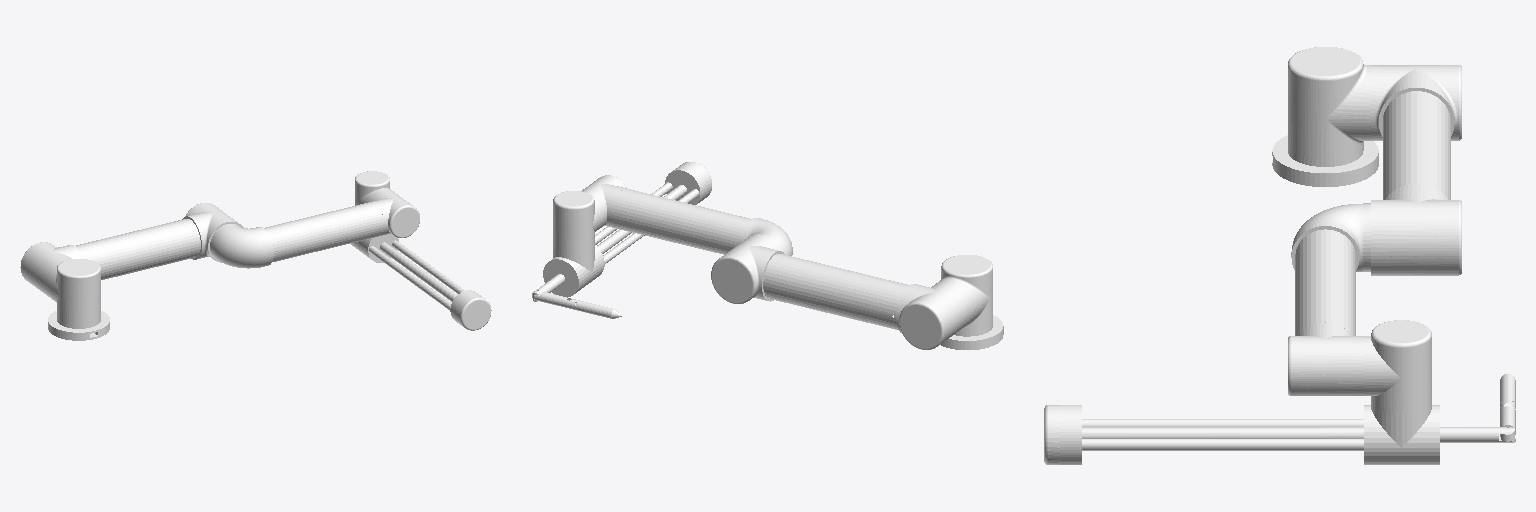
URDF robot description (dof92):
<?xml version="1.0" encoding="utf-8"?>
<!-- This URDF was automatically created by SolidWorks to URDF Exporter! Originally created by [author] ([email redacted]) 
     Commit Version: 1.5.1-0-g916b5db  Build Version: 1.5.7152.31018
     For more information, please see http://wiki.ros.org/sw_urdf_exporter -->
<robot
  name="dof92">
  <link
    name="base_link">
    <inertial>
      <origin
        xyz="9.1669E-19 0.0006188 0.01308"
        rpy="0 0 0" />
      <mass
        value="0.38246" />
      <inertia
        ixx="0.00043672"
        ixy="-5.14E-21"
        ixz="6.9161E-21"
        iyy="0.00045103"
        iyz="7.29E-07"
        izz="0.00083789" />
    </inertial>
    <visual>
      <origin
        xyz="0 0 0"
        rpy="0 0 0" />
      <geometry>
        <mesh
          filename="package://dof92/meshes/base_link.STL" />
      </geometry>
      <material
        name="">
        <color
          rgba="1 1 1 1" />
      </material>
    </visual>
    <collision>
      <origin
        xyz="0 0 0"
        rpy="0 0 0" />
      <geometry>
        <mesh
          filename="package://dof92/meshes/base_link.STL" />
      </geometry>
    </collision>
  </link>
  <link
    name="Link1">
    <inertial>
      <origin
        xyz="4.2686E-10 -8.9895E-05 0.0063042"
        rpy="0 0 0" />
      <mass
        value="1.0794" />
      <inertia
        ixx="0.0020879"
        ixy="-1.4826E-10"
        ixz="3.8162E-10"
        iyy="0.0016041"
        iyz="-6.1066E-07"
        izz="0.0019142" />
    </inertial>
    <visual>
      <origin
        xyz="0 0 0"
        rpy="0 0 0" />
      <geometry>
        <mesh
          filename="package://dof92/meshes/Link1.STL" />
      </geometry>
      <material
        name="">
        <color
          rgba="1 1 1 1" />
      </material>
    </visual>
    <collision>
      <origin
        xyz="0 0 0"
        rpy="0 0 0" />
      <geometry>
        <mesh
          filename="package://dof92/meshes/Link1.STL" />
      </geometry>
    </collision>
  </link>
  <joint
    name="joint1"
    type="revolute">
    <origin
      xyz="0 0 0.09"
      rpy="1.5708 0 3.1416" />
    <parent
      link="base_link" />
    <child
      link="Link1" />
    <axis
      xyz="0 1 0" />
    <limit
      lower="-3.14"
      upper="3.14"
      effort="100"
      velocity="3" />
  </joint>
  <link
    name="Link2">
    <inertial>
      <origin
        xyz="0.20999 -6.7298E-12 0.11992"
        rpy="0 0 0" />
      <mass
        value="2.5593" />
      <inertia
        ixx="0.0045543"
        ixy="9.5236E-10"
        ixz="5.851E-07"
        iyy="0.097115"
        iyz="7.8875E-13"
        izz="0.096147" />
    </inertial>
    <visual>
      <origin
        xyz="0 0 0"
        rpy="0 0 0" />
      <geometry>
        <mesh
          filename="package://dof92/meshes/Link2.STL" />
      </geometry>
      <material
        name="">
        <color
          rgba="1 1 1 1" />
      </material>
    </visual>
    <collision>
      <origin
        xyz="0 0 0"
        rpy="0 0 0" />
      <geometry>
        <mesh
          filename="package://dof92/meshes/Link2.STL" />
      </geometry>
    </collision>
  </link>
  <joint
    name="joint2"
    type="revolute">
    <origin
      xyz="-0.42 0 0"
      rpy="0 0 0" />
    <parent
      link="Link1" />
    <child
      link="Link2" />
    <axis
      xyz="0 0 1" />
    <limit
      lower="-3.14"
      upper="3.14"
      effort="100"
      velocity="3" />
  </joint>
  <link
    name="Link3">
    <inertial>
      <origin
        xyz="0.14169 9.2965E-08 0.0025574"
        rpy="0 0 0" />
      <mass
        value="1.171" />
      <inertia
        ixx="0.0016099"
        ixy="-1.5523E-08"
        ixz="-0.00077623"
        iyy="0.030623"
        iyz="2.78E-08"
        izz="0.03039" />
    </inertial>
    <visual>
      <origin
        xyz="0 0 0"
        rpy="0 0 0" />
      <geometry>
        <mesh
          filename="package://dof92/meshes/Link3.STL" />
      </geometry>
      <material
        name="">
        <color
          rgba="1 1 1 1" />
      </material>
    </visual>
    <collision>
      <origin
        xyz="0 0 0"
        rpy="0 0 0" />
      <geometry>
        <mesh
          filename="package://dof92/meshes/Link3.STL" />
      </geometry>
    </collision>
  </link>
  <joint
    name="joint3"
    type="revolute">
    <origin
      xyz="-0.4 0 0"
      rpy="0 0 0" />
    <parent
      link="Link2" />
    <child
      link="Link3" />
    <axis
      xyz="0 0 1" />
    <limit
      lower="-3.14"
      upper="3.14"
      effort="100"
      velocity="3" />
  </joint>
  <link
    name="Link4">
    <inertial>
      <origin
        xyz="1.2298E-09 -0.0056137 0.00011006"
        rpy="0 0 0" />
      <mass
        value="0.58201" />
      <inertia
        ixx="0.0007618"
        ixy="1.4963E-11"
        ixz="4.4791E-11"
        iyy="0.00068944"
        iyz="-3.5959E-07"
        izz="0.00056434" />
    </inertial>
    <visual>
      <origin
        xyz="0 0 0"
        rpy="0 0 0" />
      <geometry>
        <mesh
          filename="package://dof92/meshes/Link4.STL" />
      </geometry>
      <material
        name="">
        <color
          rgba="1 1 1 1" />
      </material>
    </visual>
    <collision>
      <origin
        xyz="0 0 0"
        rpy="0 0 0" />
      <geometry>
        <mesh
          filename="package://dof92/meshes/Link4.STL" />
      </geometry>
    </collision>
  </link>
  <joint
    name="joint4"
    type="revolute">
    <origin
      xyz="0 0 0.1"
      rpy="1.5708 0 0" />
    <parent
      link="Link3" />
    <child
      link="Link4" />
    <axis
      xyz="0 -1 0" />
    <limit
      lower="-3.14"
      upper="3.14"
      effort="100"
      velocity="3" />
  </joint>
  <link
    name="Link5">
    <inertial>
      <origin
        xyz="1.7409E-07 0.0040239 -0.10572"
        rpy="0 0 0" />
      <mass
        value="0.81197" />
      <inertia
        ixx="0.024896"
        ixy="-2.8768E-09"
        ixz="-1.0498E-08"
        iyy="0.024963"
        iyz="-0.00034542"
        izz="0.0007983" />
    </inertial>
    <visual>
      <origin
        xyz="0 0 0"
        rpy="0 0 0" />
      <geometry>
        <mesh
          filename="package://dof92/meshes/Link5.STL" />
      </geometry>
      <material
        name="">
        <color
          rgba="1 1 1 1" />
      </material>
    </visual>
    <collision>
      <origin
        xyz="0 0 0"
        rpy="0 0 0" />
      <geometry>
        <mesh
          filename="package://dof92/meshes/Link5.STL" />
      </geometry>
    </collision>
  </link>
  <joint
    name="joint5"
    type="revolute">
    <origin
      xyz="0 0 0.1"
      rpy="-1.5708 0 0" />
    <parent
      link="Link4" />
    <child
      link="Link5" />
    <axis
      xyz="0 -1 0" />
    <limit
      lower="-3.14"
      upper="3.14"
      effort="100"
      velocity="3" />
  </joint>
  <link
    name="Link6">
    <inertial>
      <origin
        xyz="-2.2204E-16 4.3368E-17 -0.015"
        rpy="0 0 0" />
      <mass
        value="0.12931" />
      <inertia
        ixx="6.9588E-05"
        ixy="1.8267E-20"
        ixz="-2.397E-20"
        iyy="5.8731E-05"
        iyz="3.5387E-20"
        izz="0.00010892" />
    </inertial>
    <visual>
      <origin
        xyz="0 0 0"
        rpy="0 0 0" />
      <geometry>
        <mesh
          filename="package://dof92/meshes/Link6.STL" />
      </geometry>
      <material
        name="">
        <color
          rgba="1 1 1 1" />
      </material>
    </visual>
    <collision>
      <origin
        xyz="0 0 0"
        rpy="0 0 0" />
      <geometry>
        <mesh
          filename="package://dof92/meshes/Link6.STL" />
      </geometry>
    </collision>
  </link>
  <joint
    name="joint6p"
    type="prismatic">
    <origin
      xyz="0 0 -0.42"
      rpy="0 0 0" />
    <parent
      link="Link5" />
    <child
      link="Link6" />
    <axis
      xyz="0 0 1" />
    <limit
      lower="0"
      upper="0.5"
      effort="100"
      velocity="3" />
  </joint>
  <link
    name="Link7">
    <inertial>
      <origin
        xyz="3.1885E-09 -0.29766 2.9817E-08"
        rpy="0 0 0" />
      <mass
        value="0.18362" />
      <inertia
        ixx="0.0052429"
        ixy="-1.4282E-10"
        ixz="2.891E-13"
        iyy="9.233E-06"
        iyz="-1.3378E-09"
        izz="0.0052429" />
    </inertial>
    <visual>
      <origin
        xyz="0 0 0"
        rpy="0 0 0" />
      <geometry>
        <mesh
          filename="package://dof92/meshes/Link7.STL" />
      </geometry>
      <material
        name="">
        <color
          rgba="1 1 1 1" />
      </material>
    </visual>
    <collision>
      <origin
        xyz="0 0 0"
        rpy="0 0 0" />
      <geometry>
        <mesh
          filename="package://dof92/meshes/Link7.STL" />
      </geometry>
    </collision>
  </link>
  <joint
    name="joint7"
    type="revolute">
    <origin
      xyz="0 0 0.56"
      rpy="1.5708 0 0" />
    <parent
      link="Link6" />
    <child
      link="Link7" />
    <axis
      xyz="0 1 0" />
    <limit
      lower="-3.14"
      upper="3.14"
      effort="100"
      velocity="3" />
  </joint>
  <link
    name="Link8">
    <inertial>
      <origin
        xyz="-0.043248 -4.6718E-09 3.9744E-08"
        rpy="0 0 0" />
      <mass
        value="0.023875" />
      <inertia
        ixx="1.1971E-06"
        ixy="4.4295E-12"
        ixz="-3.8291E-11"
        iyy="1.4588E-05"
        iyz="8.1423E-14"
        izz="1.4442E-05" />
    </inertial>
    <visual>
      <origin
        xyz="0 0 0"
        rpy="0 0 0" />
      <geometry>
        <mesh
          filename="package://dof92/meshes/Link8.STL" />
      </geometry>
      <material
        name="">
        <color
          rgba="1 1 1 1" />
      </material>
    </visual>
    <collision>
      <origin
        xyz="0 0 0"
        rpy="0 0 0" />
      <geometry>
        <mesh
          filename="package://dof92/meshes/Link8.STL" />
      </geometry>
    </collision>
  </link>
  <joint
    name="joint8"
    type="revolute">
    <origin
      xyz="0.08 0 0"
      rpy="-1.5708 0 0" />
    <parent
      link="Link7" />
    <child
      link="Link8" />
    <axis
      xyz="0 1 0" />
    <limit
      lower="-3.14"
      upper="3.14"
      effort="100"
      velocity="3" />
  </joint>
  <link
    name="Link9">
    <inertial>
      <origin
        xyz="-0.062716 3.9899E-17 -5.5511E-17"
        rpy="0 0 0" />
      <mass
        value="0.030846" />
      <inertia
        ixx="1.4516E-06"
        ixy="2.511E-20"
        ixz="-1.8222E-19"
        iyy="2.7003E-05"
        iyz="-2.5042E-23"
        izz="2.7063E-05" />
    </inertial>
    <visual>
      <origin
        xyz="0 0 0"
        rpy="0 0 0" />
      <geometry>
        <mesh
          filename="package://dof92/meshes/Link9.STL" />
      </geometry>
      <material
        name="">
        <color
          rgba="1 1 1 1" />
      </material>
    </visual>
    <collision>
      <origin
        xyz="0 0 0"
        rpy="0 0 0" />
      <geometry>
        <mesh
          filename="package://dof92/meshes/Link9.STL" />
      </geometry>
    </collision>
  </link>
  <joint
    name="joint9"
    type="revolute">
    <origin
      xyz="0.11 0 0"
      rpy="0 0 0" />
    <parent
      link="Link8" />
    <child
      link="Link9" />
    <axis
      xyz="0 0 1" />
    <limit
      lower="-3.14"
      upper="3.14"
      effort="100"
      velocity="3" />
  </joint>
</robot>

--- Facts derived from the render (not from the file) ---
Views: 3 orthographic renders of the robot side by side, from view 1: azimuth 30°, elevation 25°; view 2: azimuth 150°, elevation 25°; view 3: azimuth 270°, elevation 25°.
Robot: dof92 — 10 links, 9 joints (8 revolute, 1 prismatic); root link base_link; default pose: every joint at zero.
Visible links, largest first — view 1: Link3, Link2, Link1, Link5, base_link, Link4, Link7; view 2: Link2, Link3, Link5, Link4, Link1, base_link, Link6, Link7; view 3: Link2, Link3, Link5, Link1, Link4, Link7, base_link, Link6.
Link boxes in pixels (x1,y1,x2,y2): Link3: (210, 190, 419, 268); Link2: (20, 203, 243, 296); Link1: (46, 259, 100, 324); Link5: (350, 234, 491, 330); base_link: (48, 311, 109, 340); Link4: (355, 171, 393, 205); Link7: (380, 242, 456, 301); Link2: (711, 234, 973, 349); Link3: (582, 175, 792, 255); Link5: (543, 162, 711, 297); Link4: (553, 191, 604, 253); Link1: (939, 255, 992, 331); base_link: (941, 315, 1003, 349); Link6: (665, 165, 707, 204); Link7: (533, 185, 686, 301); Link2: (1371, 65, 1461, 275); Link3: (1288, 203, 1370, 395); Link5: (1044, 402, 1439, 464); Link1: (1288, 47, 1370, 159); Link4: (1364, 320, 1431, 412); Link7: (1082, 427, 1515, 442); base_link: (1272, 135, 1378, 186); Link6: (1060, 405, 1081, 464).
Bounding box of the posed robot: 0.93 × 0.62 × 0.2 m (x, y, z).
10 mesh visuals loaded from 10 distinct referenced files (10 binary STL).
